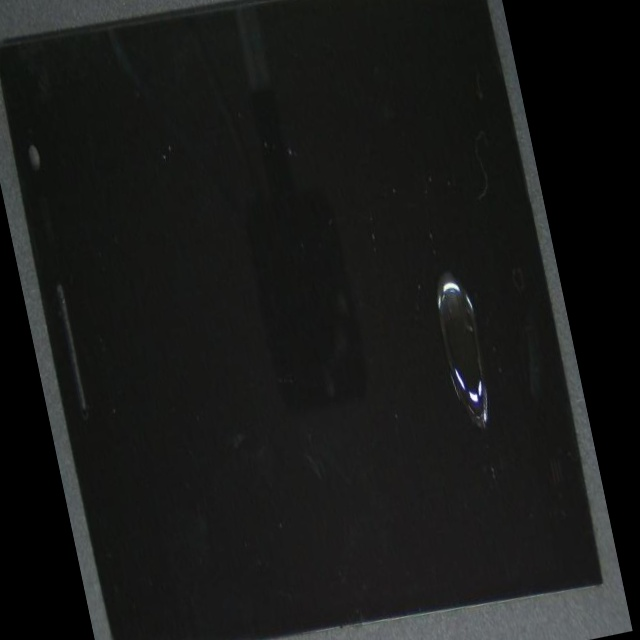oil: (232, 97, 600, 533)
